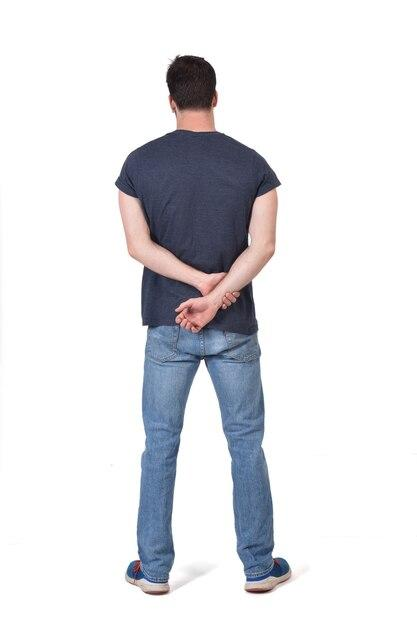Human: (91, 41, 341, 600)
